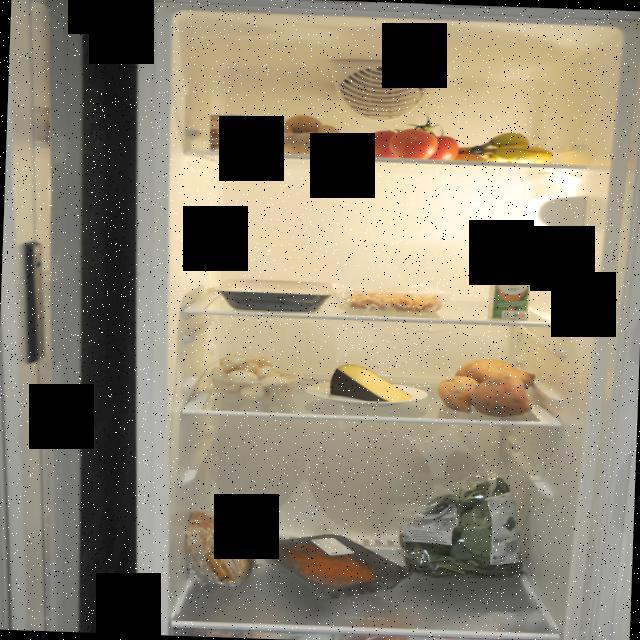banana: (424, 126, 566, 164)
beef: (250, 528, 420, 602)
bread: (180, 508, 260, 588)
cheese: (324, 362, 416, 406)
corn: (204, 110, 265, 154)
heavy_cream: (486, 246, 534, 320)
mushrooms: (211, 352, 296, 403)
potato: (264, 113, 366, 158)
shrimp: (341, 288, 446, 314)
spinach: (395, 473, 529, 578)
sweet_potato: (436, 354, 540, 420)
tomato: (366, 108, 461, 160)
